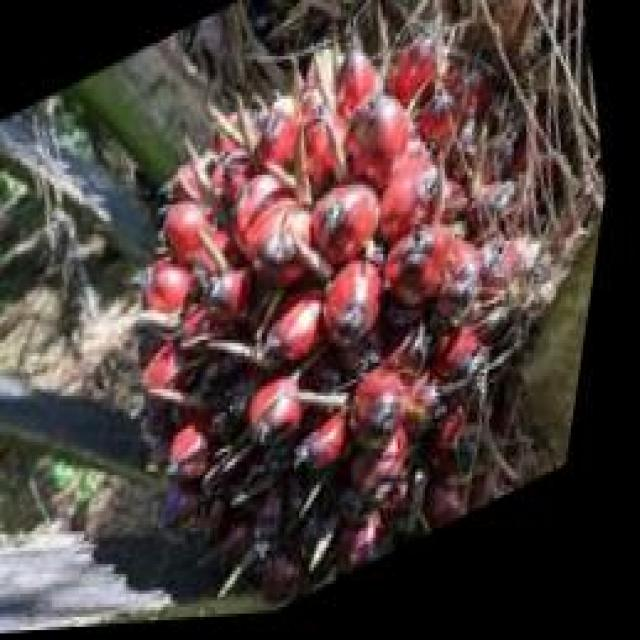Ripefruit: (51, 0, 632, 633)
